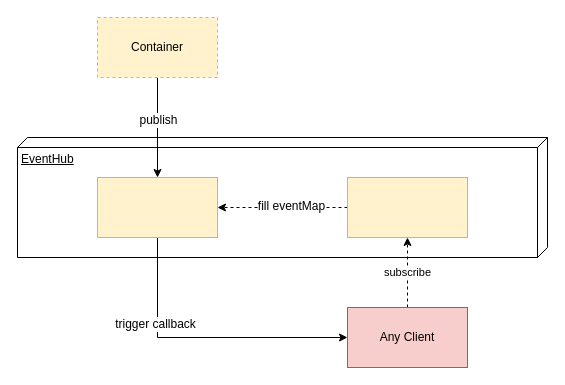
Image size: 565x385. Some labels were removed from this diagram. The shapes that lost their labels are listed below. From the top down, each one's centre as x and y in pixels, then its label:
At [157,207]: "EventPublisher +eventMap".
At [407,207]: "EventSubscriber".
